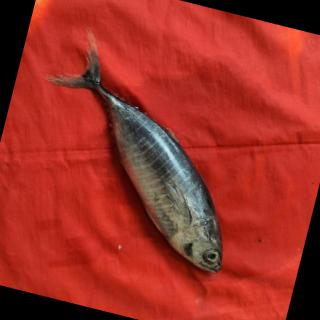Ikan: (1, 11, 278, 284)
